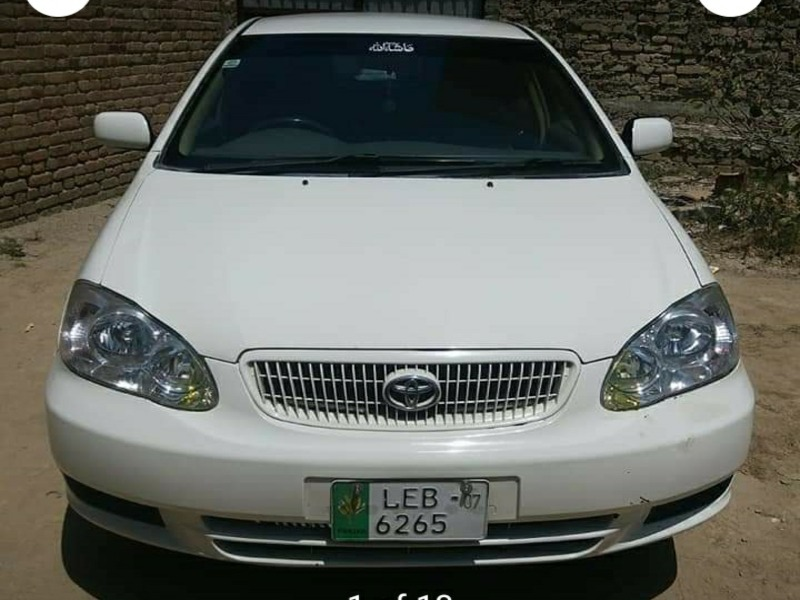License Plate: (326, 477, 495, 548)
